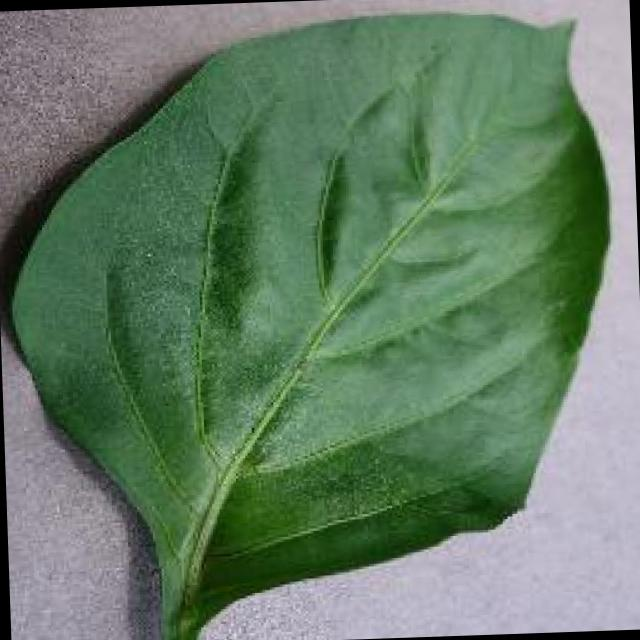Chilli_Healthy: (0, 2, 625, 640)
